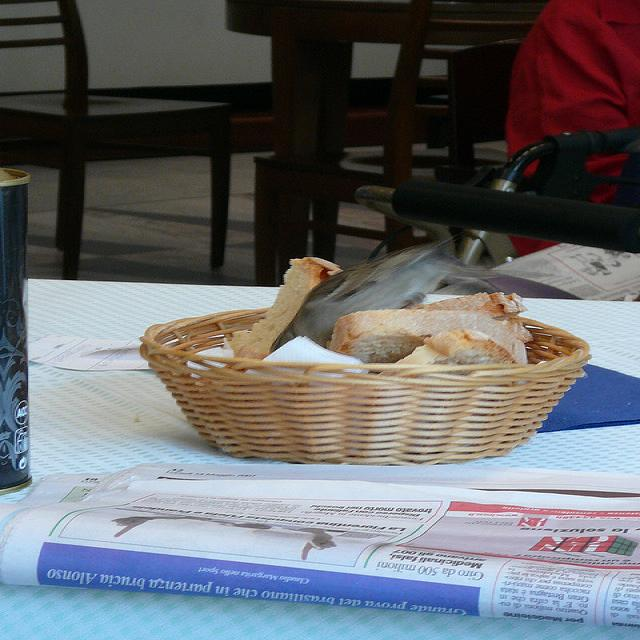chair: (0, 2, 231, 277), (363, 4, 548, 189), (450, 130, 640, 266)
dining table: (10, 274, 640, 632), (223, 0, 408, 281)
